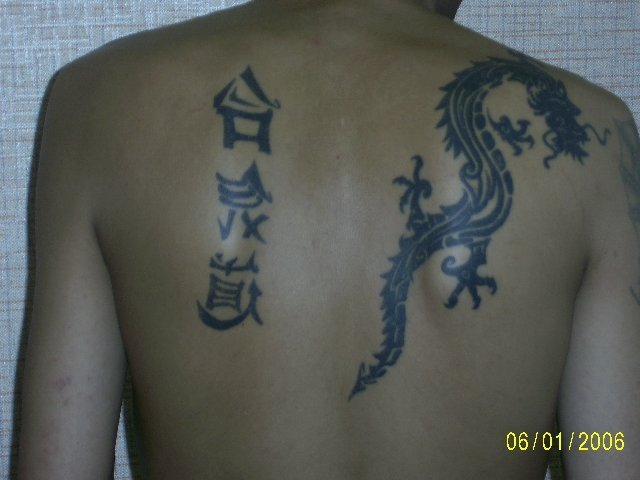tatu6_drakon: (349, 44, 629, 423)
